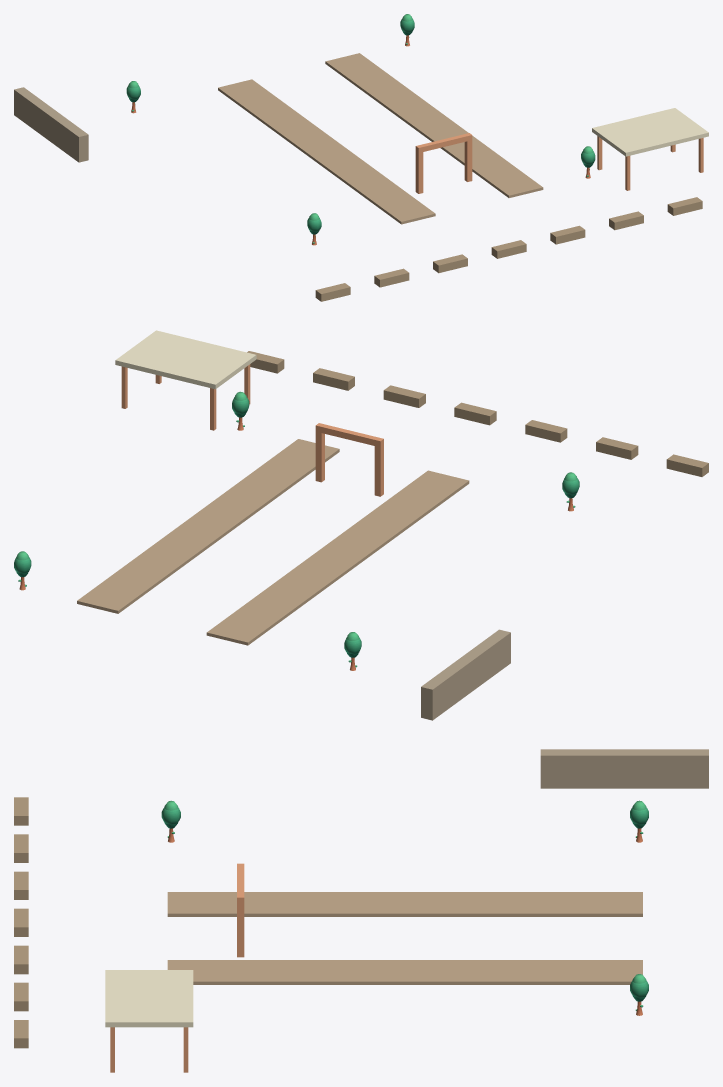
The model's file is gardens-2-6.glb.
3 renders of one model, top to bottom at view 1: azimuth 30°, elevation 25°; view 2: azimuth 150°, elevation 25°; view 3: azimuth 270°, elevation 25°, orthographic. The views are drawn at different scales.
Visible parts, largest first — view 1: gardens-2-6; view 2: gardens-2-6; view 3: gardens-2-6.
Boxes of the visible parts, x1=… form: gardens-2-6: x1=14, y1=14, x2=708, y2=301; gardens-2-6: x1=14, y1=330, x2=708, y2=720; gardens-2-6: x1=14, y1=749, x2=708, y2=1072.
Bounding box in the file's own units: 189 × 18 × 190.
Materials: 9 (4 with a texture image).
